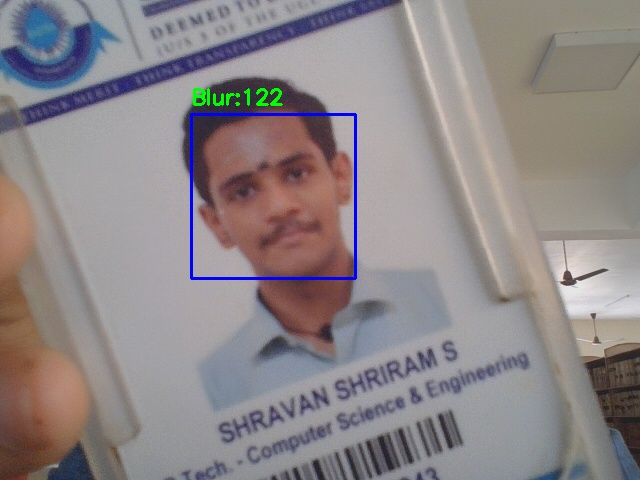fake: (191, 114, 355, 278)
